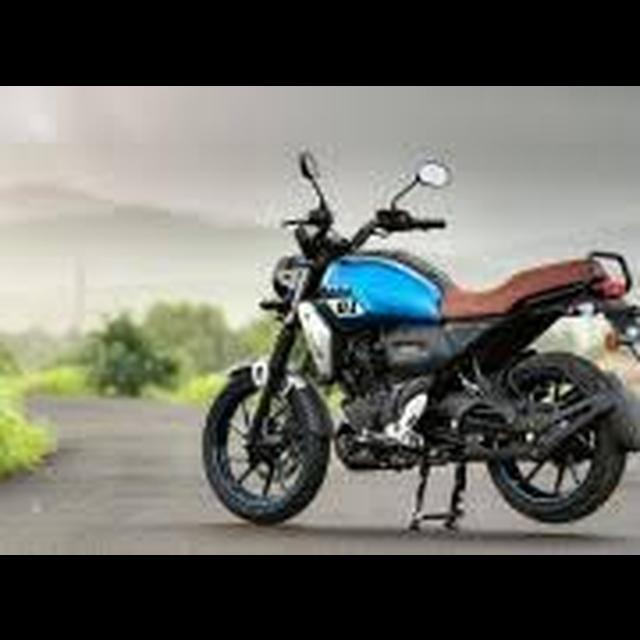motorcycle: (201, 143, 636, 539)
